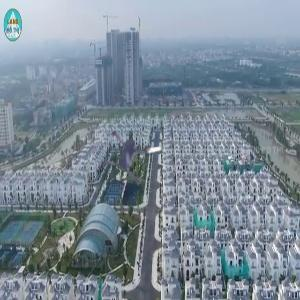drone: (95, 116, 178, 199)
